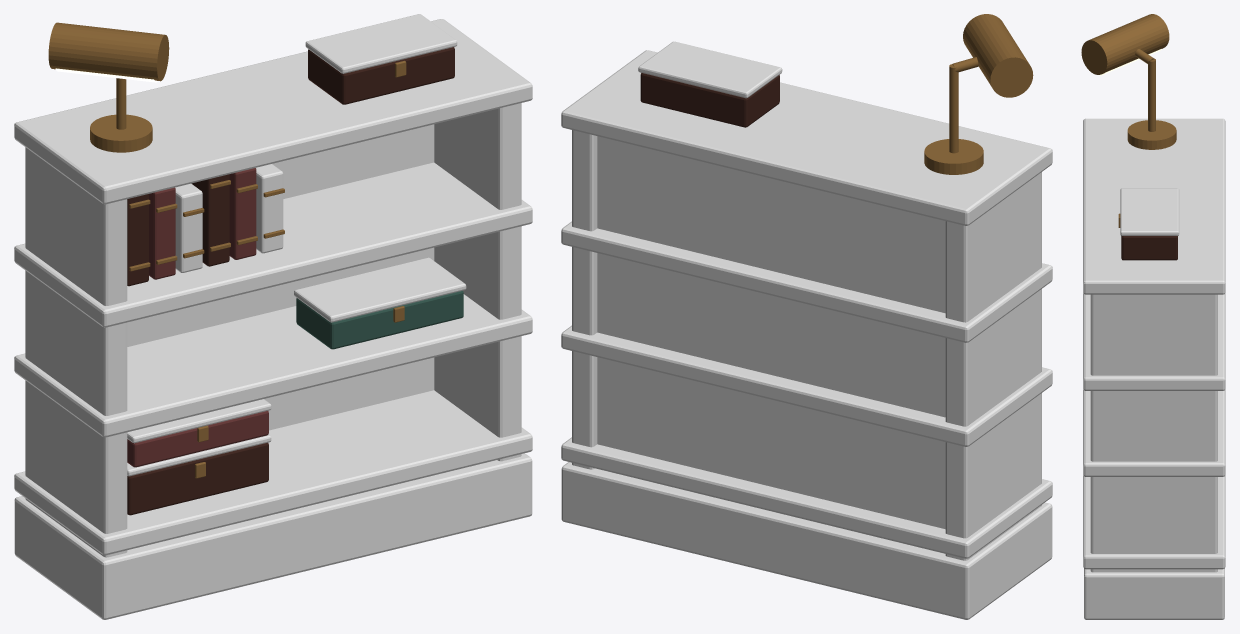
File: HouseGameCabinet.fbx
3 renders of one model, left to right at view 1: azimuth 30°, elevation 25°; view 2: azimuth 150°, elevation 25°; view 3: azimuth 270°, elevation 25°, orthographic. The views are drawn at different scales.
Parts seen in each view (by area): view 1: Part_GameCupboardShelf.003, Part_GameCupboardPlinth, Part_GameCupboardUpright, Part_GameCupboardShelf, Part_GameCupboardShelf.002, Part_GameCupboardShelf.001, Part_GameCupboardUpright.001, Part_GameCupboardBack, Part_TokenCaseLid, Part_GamingCase, Part_PianoLampCanopy, Part_HouseCashboxLid (+12 smaller); view 2: Part_GameCupboardBack, Part_GameCupboardShelf.003, Part_GameCupboardPlinth, Part_GameCupboardUpright, Part_GameCupboardShelf.002, Part_GameCupboardShelf.001, Part_GameCupboardShelf, Part_GameCupboardUpright.001, Part_HouseCashboxLid, Part_HouseCashbox, Part_PianoLampCanopy, Part_PianoLampFoot (+1 smaller); view 3: Part_GameCupboardUpright.001, Part_GameCupboardShelf.003, Part_GameCupboardPlinth, Part_GameCupboardShelf.002, Part_GameCupboardShelf, Part_GameCupboardShelf.001, Part_PianoLampCanopy, Part_HouseCashboxLid, Part_HouseCashbox, Part_PianoLampFoot, Part_PianoLampStem.
Part boxes in pixels (x1,y1,x2,y2): Part_GameCupboardShelf.003: (14, 19, 532, 204); Part_GameCupboardPlinth: (14, 453, 532, 619); Part_GameCupboardUpright: (25, 147, 127, 557); Part_GameCupboardShelf: (14, 390, 532, 555); Part_GameCupboardShelf.002: (14, 162, 532, 327); Part_GameCupboardShelf.001: (14, 294, 532, 437); Part_GameCupboardUpright.001: (434, 103, 521, 461); Part_GameCupboardBack: (127, 124, 434, 430); Part_TokenCaseLid: (294, 257, 466, 322); Part_GamingCase: (127, 442, 268, 515); Part_PianoLampCanopy: (48, 22, 169, 81); Part_HouseCashboxLid: (305, 14, 457, 73); Part_GameCupboardBack: (597, 136, 945, 529); Part_GameCupboardShelf.003: (561, 50, 1052, 225); Part_GameCupboardPlinth: (561, 462, 1052, 619); Part_GameCupboardUpright: (945, 172, 1041, 560); Part_GameCupboardShelf.002: (561, 221, 1052, 342); Part_GameCupboardShelf.001: (561, 325, 1052, 446); Part_GameCupboardShelf: (561, 437, 1052, 558); Part_GameCupboardUpright.001: (572, 130, 597, 469); Part_HouseCashboxLid: (638, 41, 782, 98); Part_HouseCashbox: (640, 73, 779, 127); Part_PianoLampCanopy: (963, 14, 1033, 97); Part_PianoLampFoot: (924, 139, 983, 174); Part_GameCupboardUpright.001: (1090, 294, 1217, 572); Part_GameCupboardShelf.003: (1083, 118, 1225, 294); Part_GameCupboardPlinth: (1084, 568, 1224, 619); Part_GameCupboardShelf.002: (1083, 292, 1225, 390); Part_GameCupboardShelf: (1083, 475, 1225, 569); Part_GameCupboardShelf.001: (1083, 389, 1225, 476); Part_PianoLampCanopy: (1081, 14, 1169, 74); Part_HouseCashboxLid: (1120, 188, 1179, 235); Part_HouseCashbox: (1121, 236, 1177, 260); Part_PianoLampFoot: (1127, 120, 1176, 149); Part_PianoLampStem: (1148, 59, 1155, 131).
Size of the model in its own units: 1.75 by 2.1 by 0.6227.
